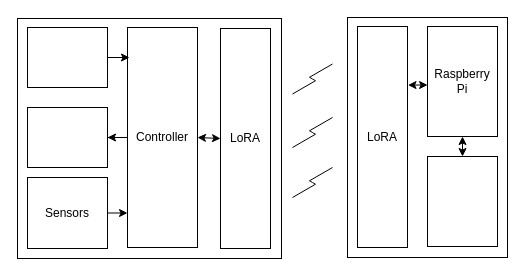
Image size: 525x276. Some labels were removed from this diagram. The shapes that lost their labels are listed below. From the top down, each one's box as (x1, y1, x2, y2) in pixels, then its label:
(26, 26, 108, 88): Battery
(26, 106, 108, 168): Irrigation Pump
(426, 156, 498, 246): Touch Screen Display
